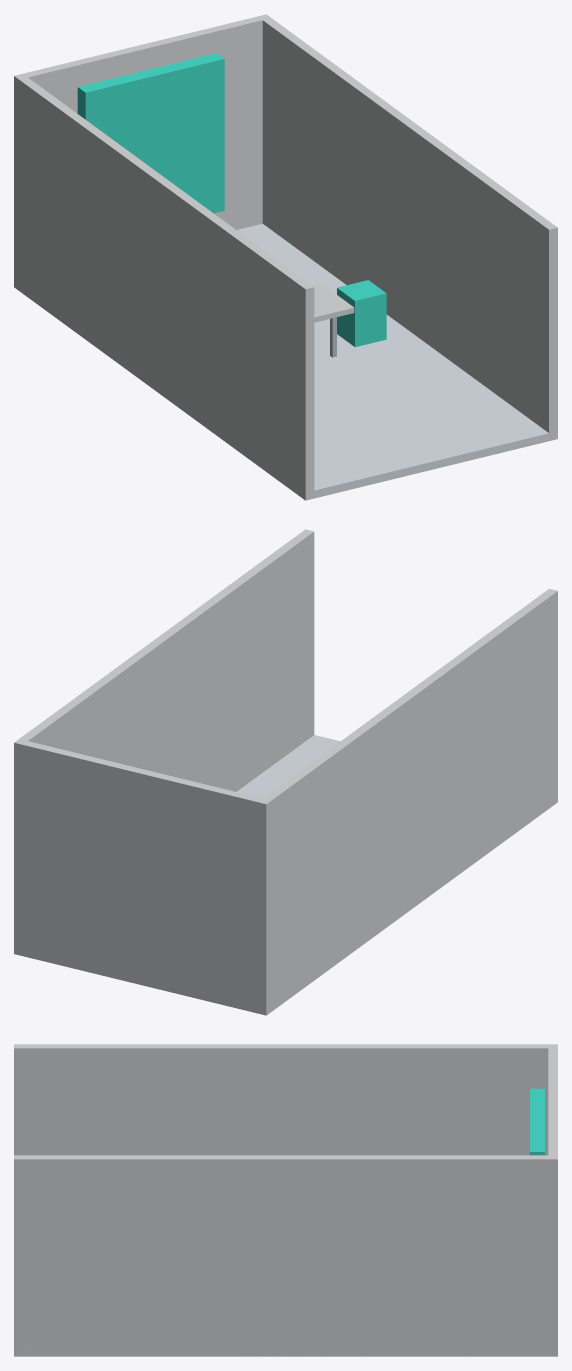
The picture shows the model from 3 angles, top to bottom: view 1: azimuth 30°, elevation 25°; view 2: azimuth 150°, elevation 25°; view 3: azimuth 270°, elevation 25°; orthographic projection. The views are drawn at different scales.
Parts seen in each view (by area): view 1: Exhibition Booth Concept; view 2: Exhibition Booth Concept; view 3: Exhibition Booth Concept.
Part boxes in pixels (x1=…): Exhibition Booth Concept: x1=14, y1=14, x2=557, y2=500; Exhibition Booth Concept: x1=14, y1=529, x2=557, y2=1015; Exhibition Booth Concept: x1=14, y1=1044, x2=557, y2=1356.
Bounding box in the file's own units: 4 × 3.2 × 8.
